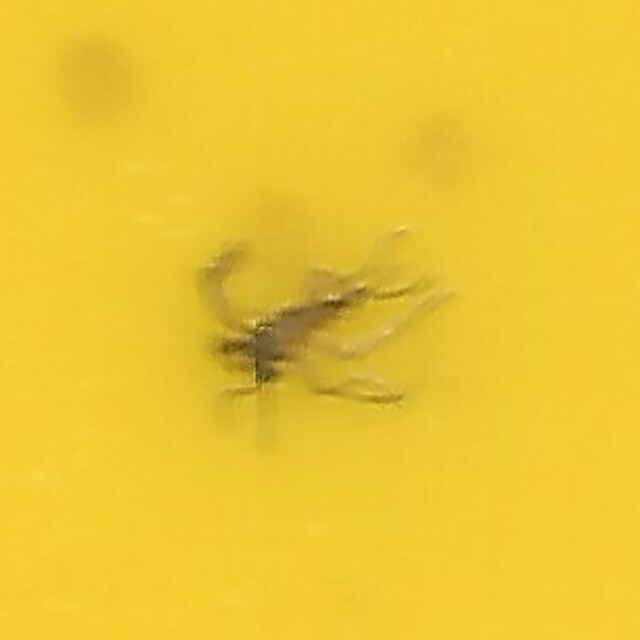Nematocera: (208, 225, 432, 415)
